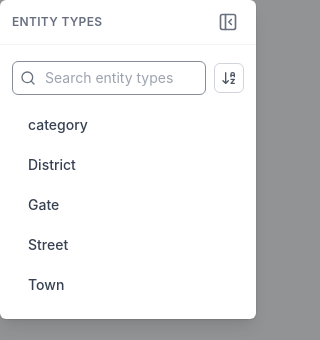
Test: ObjectTypeExplorer › search › shows an empty state and clears with the clear button
In the search field: [109, 78] box [12,61,206,95], type "zzz"
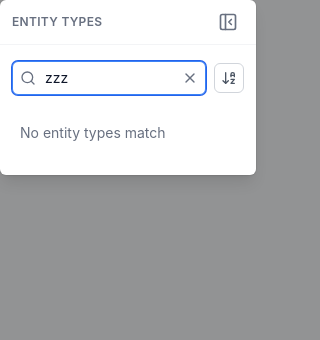
Now the text "No entity types match" is shown, box [20,124,166,141]
Click the button named "Clear search": [190, 78] box [180,68,200,88]
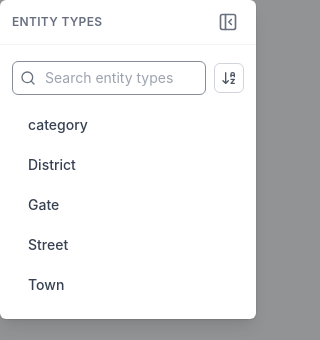
Now the search field is empty, box [12,61,206,95]
Now the text "No entity types match" is gone
